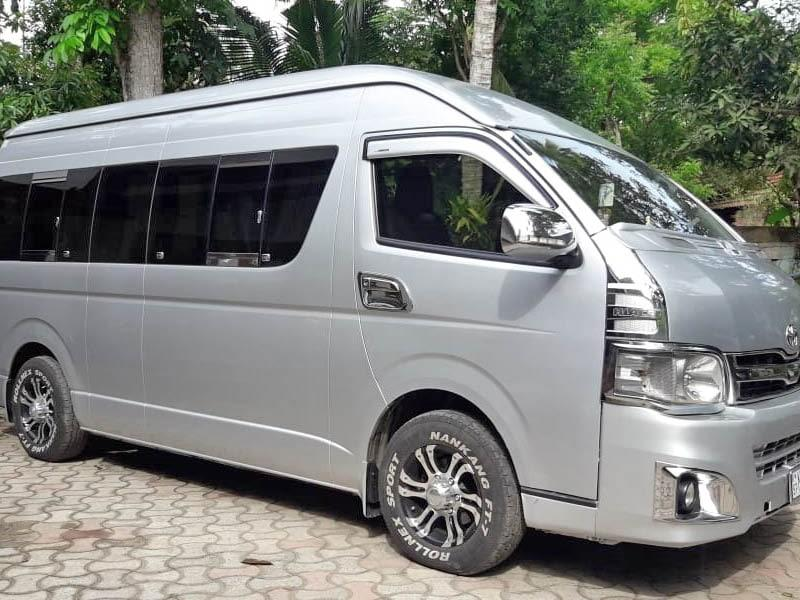van: (2, 65, 800, 577)
